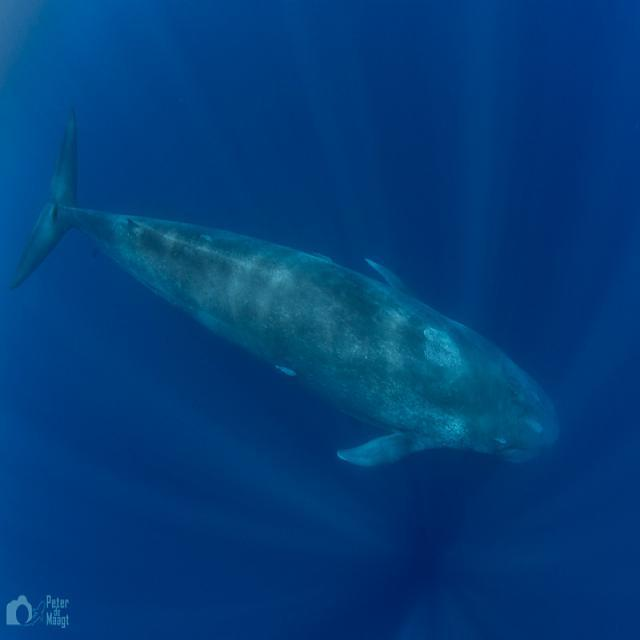blue_whale: (12, 136, 568, 524)
